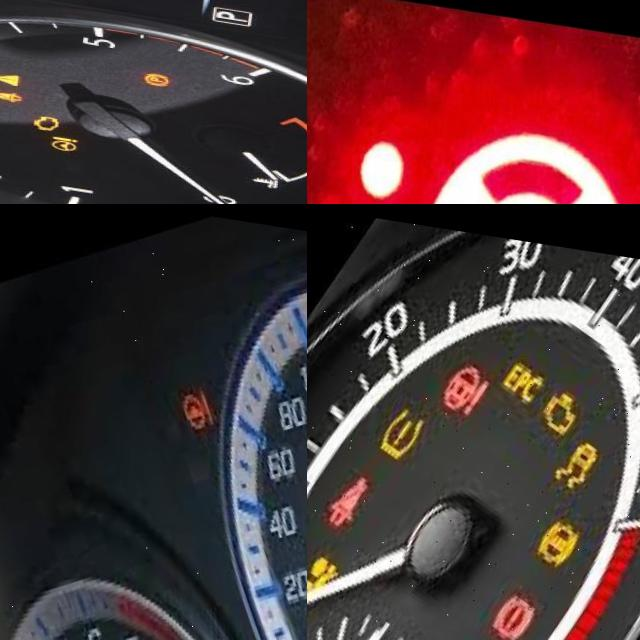Electronic Power Steering: (340, 100, 640, 204), (65, 125, 94, 148)
Electronic Power Steering Warning: (445, 358, 495, 409), (181, 380, 226, 430)
Seat Belt: (332, 470, 377, 526), (2, 81, 36, 103)
